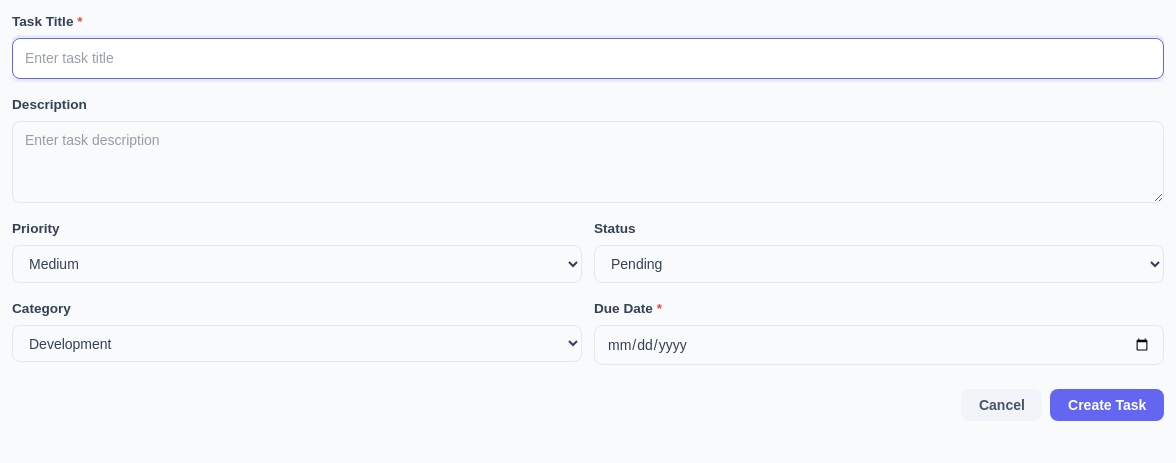
Test: TaskForm › shows validation error for missing due date
Type "My Task" into the field labelled "Task Title *" at (588, 58), box [12,38,1164,79]
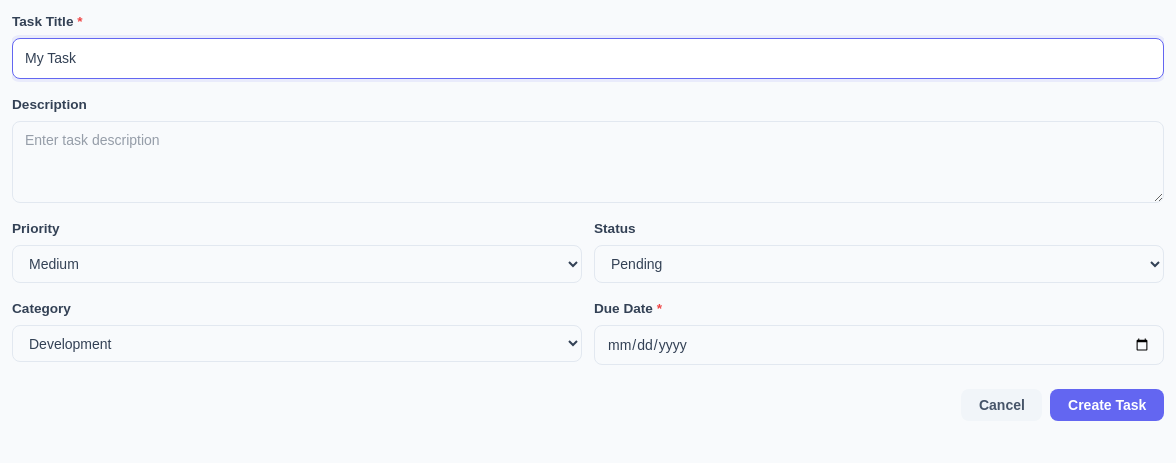
Click the button "Create Task" at (1107, 405), box [1050,389,1164,421]
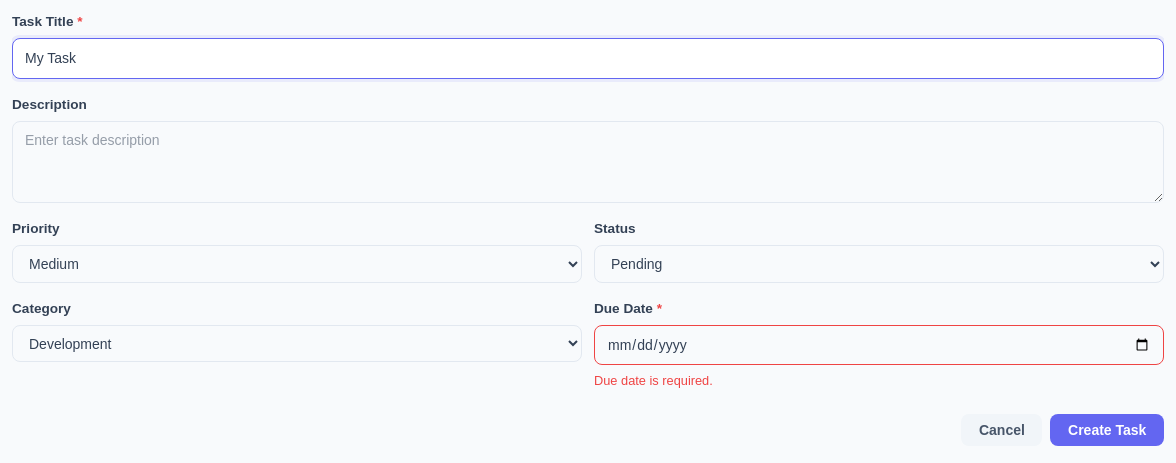
Check: the text "Due date is required." is shown, box [594,373,713,388]
